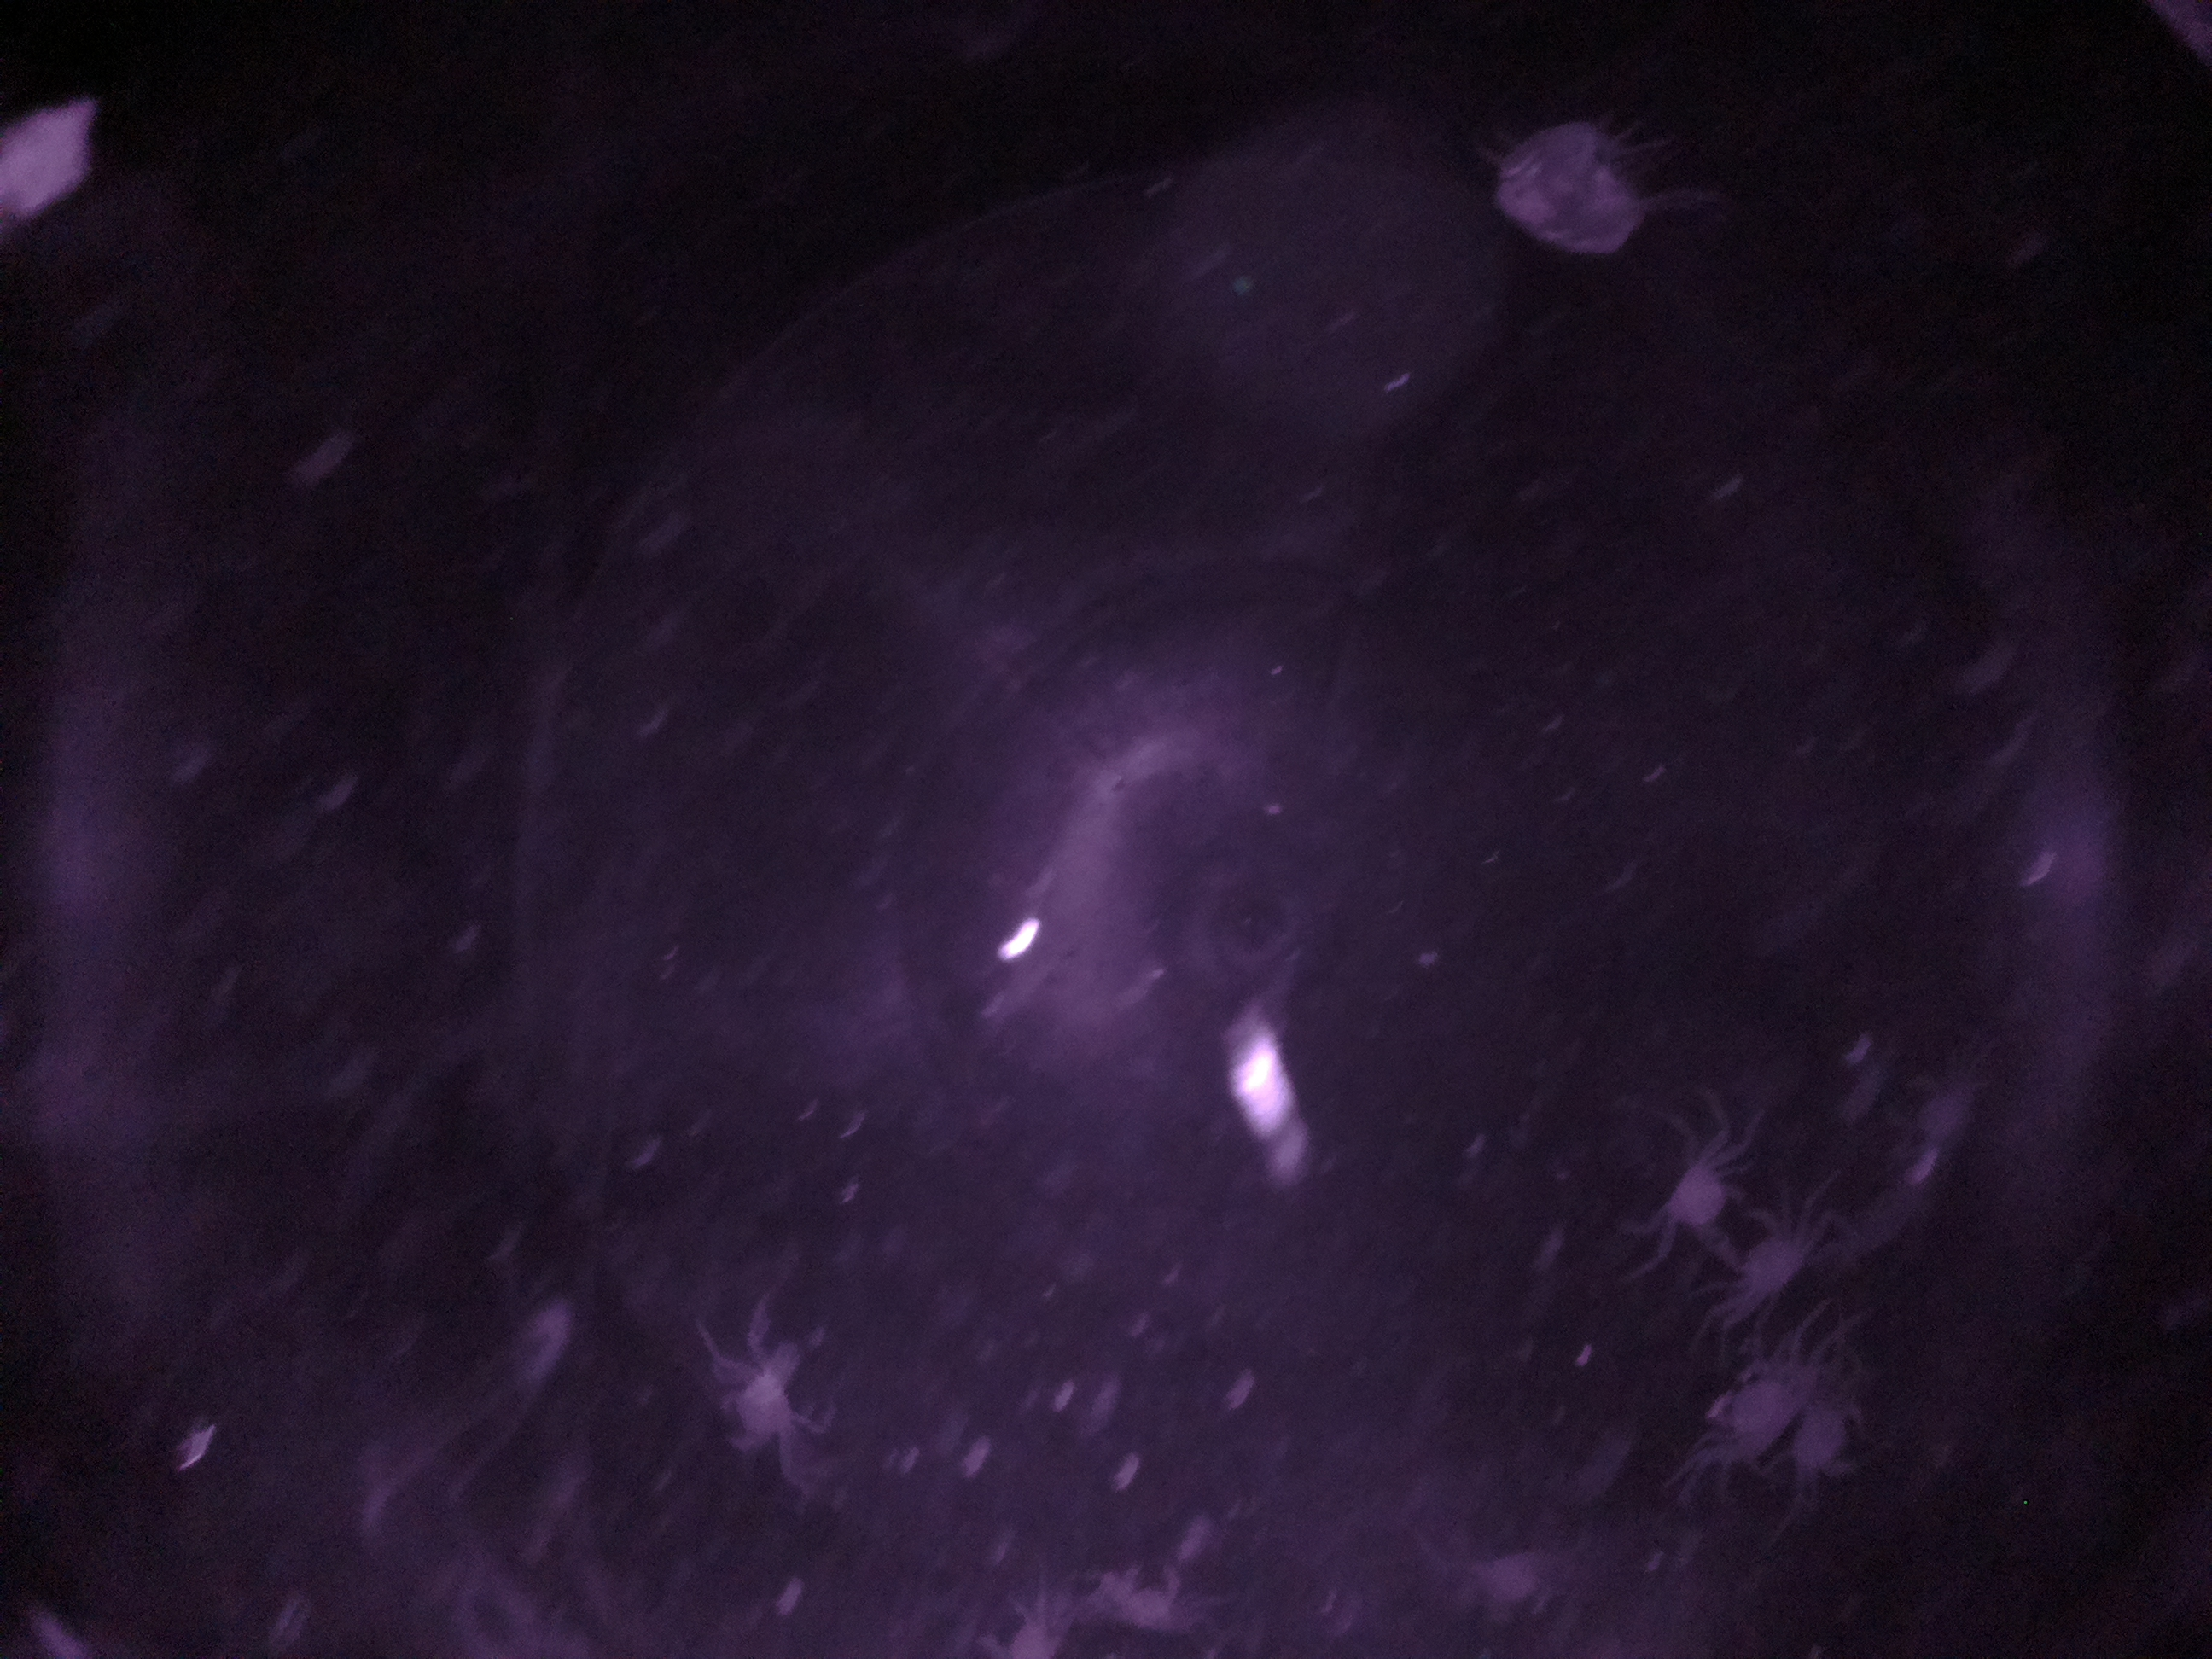Crab: (700, 1345, 819, 1473), (1714, 1206, 1815, 1319), (1642, 1133, 1740, 1244)
